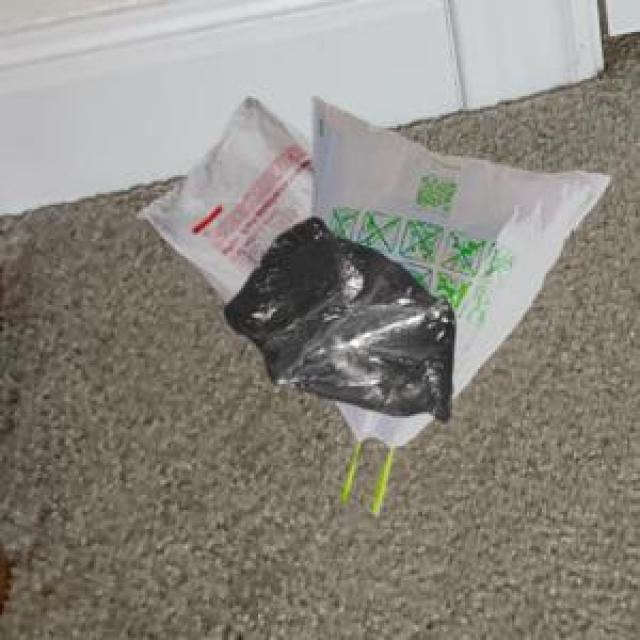waste: (142, 99, 609, 511)
